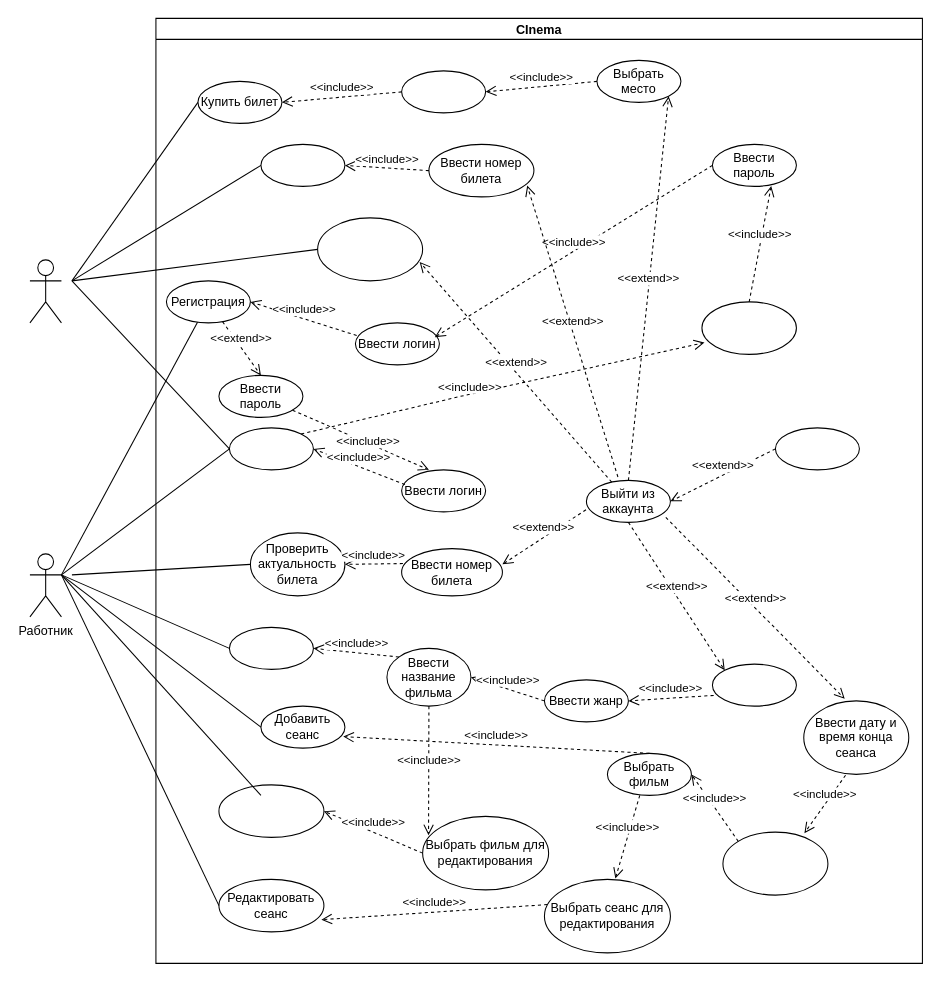
This 941x982 diagram has some shape labels left out. The centre of each missing label's shape, as x and y in pixels:
"Авторизация" belongs at (270,448).
"Ввести дату и время начала сенаса" belongs at (775,863).
"Ввести подтверждение пароля" belongs at (748,327).
"Ввести режиссера" belongs at (753,684).
"Выбрать киносеанс" belongs at (443,91).
"Добавить фильм" belongs at (270,647).
"Завершить работу" belongs at (816,448).
"Клиент" belongs at (45,291).
"Посмотреть все свои билеты" belongs at (370,249).
"Редактировать фильм" belongs at (271,810).
"Сдать билет" belongs at (302,164).
